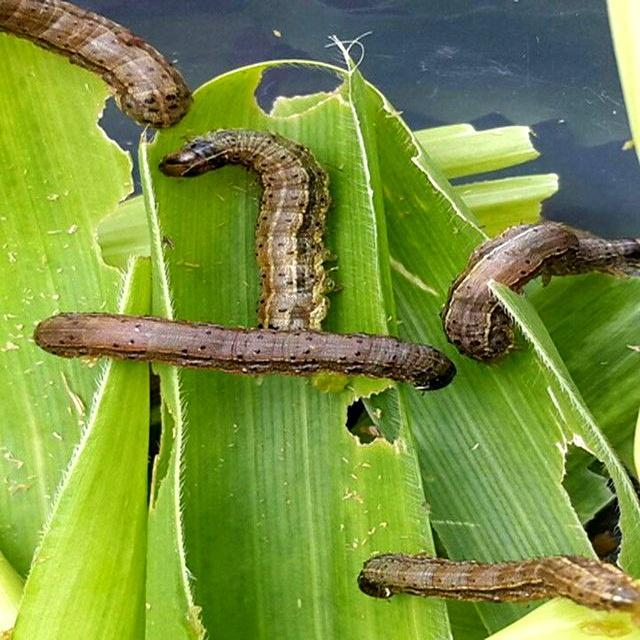worm: (28, 303, 460, 406), (158, 130, 336, 367), (439, 219, 640, 365), (1, 1, 195, 131), (357, 551, 640, 619)
